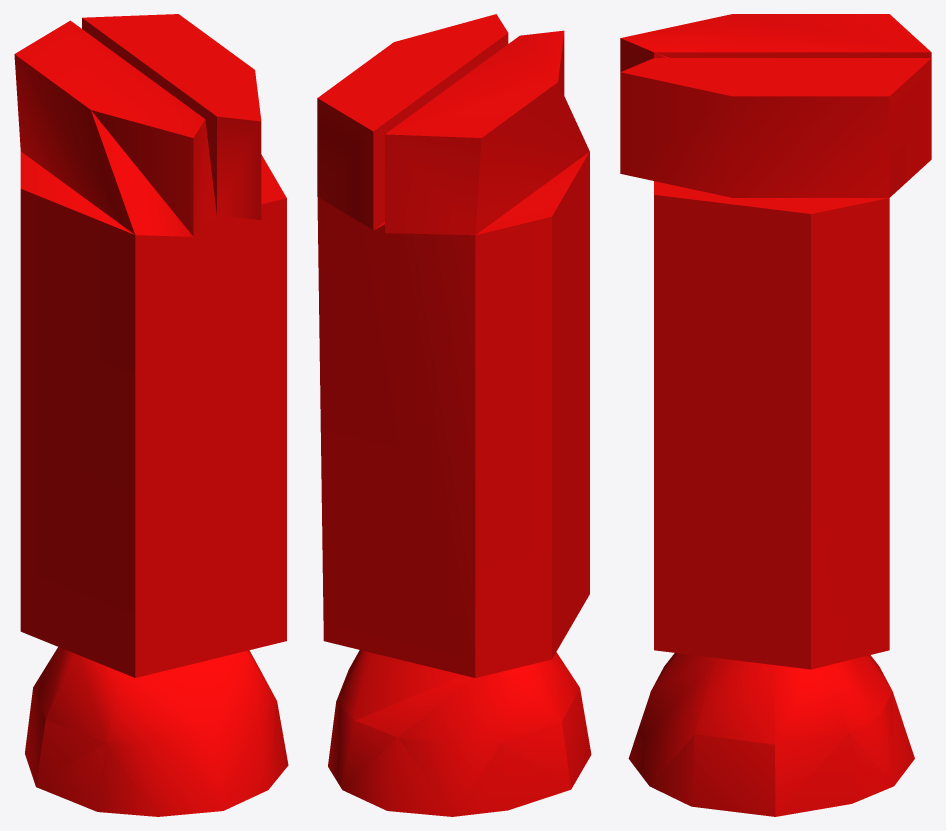
3 views of the same model, side by side, from view 1: azimuth 30°, elevation 25°; view 2: azimuth 150°, elevation 25°; view 3: azimuth 270°, elevation 25° (orthographic). The views are drawn at different scales.
Parts seen in each view (by area): view 1: SatBody3Transform; view 2: SatBody3Transform; view 3: SatBody3Transform.
Part boxes in pixels (<box>): SatBody3Transform: <box>14,14,288,816</box>; SatBody3Transform: <box>317,14,591,816</box>; SatBody3Transform: <box>620,14,931,816</box>.
Size of the model in its own units: 0.0223 by 0.0626 by 0.0251.
